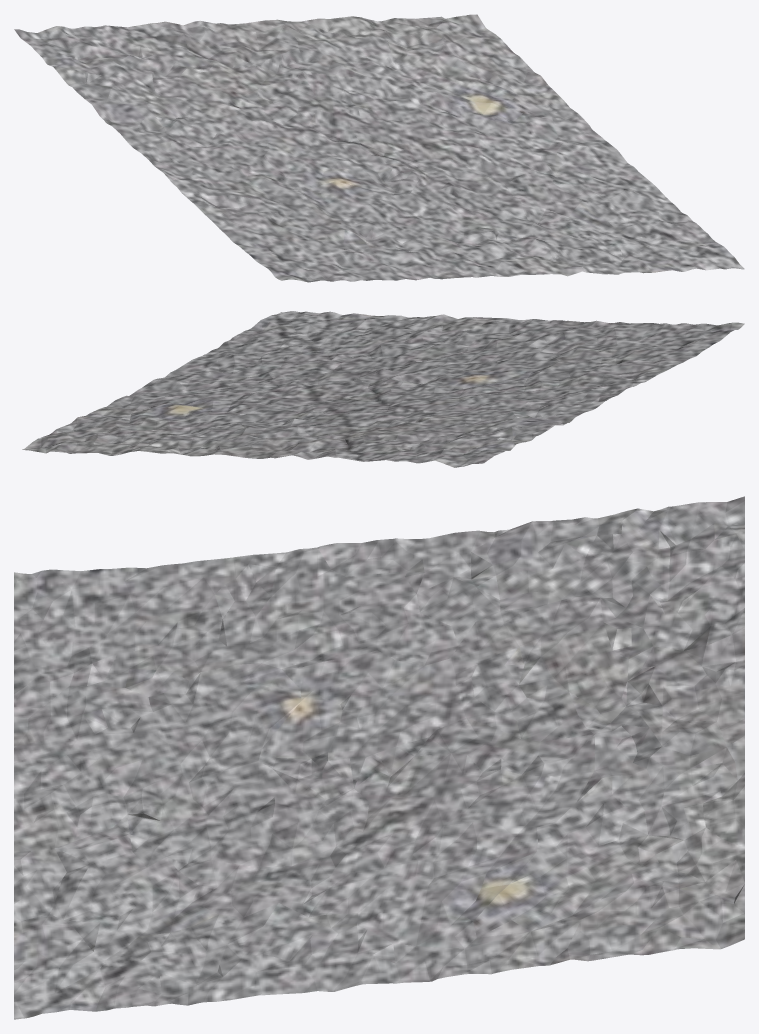
The picture shows the model from 3 angles, top to bottom: view 1: azimuth 30°, elevation 25°; view 2: azimuth 150°, elevation 25°; view 3: azimuth 270°, elevation 25°; orthographic projection. The views are drawn at different scales.
Bounding box in the file's own units: 0.8373 × 0.2711 × 0.8374.
Materials: 2 (2 with a texture image).
